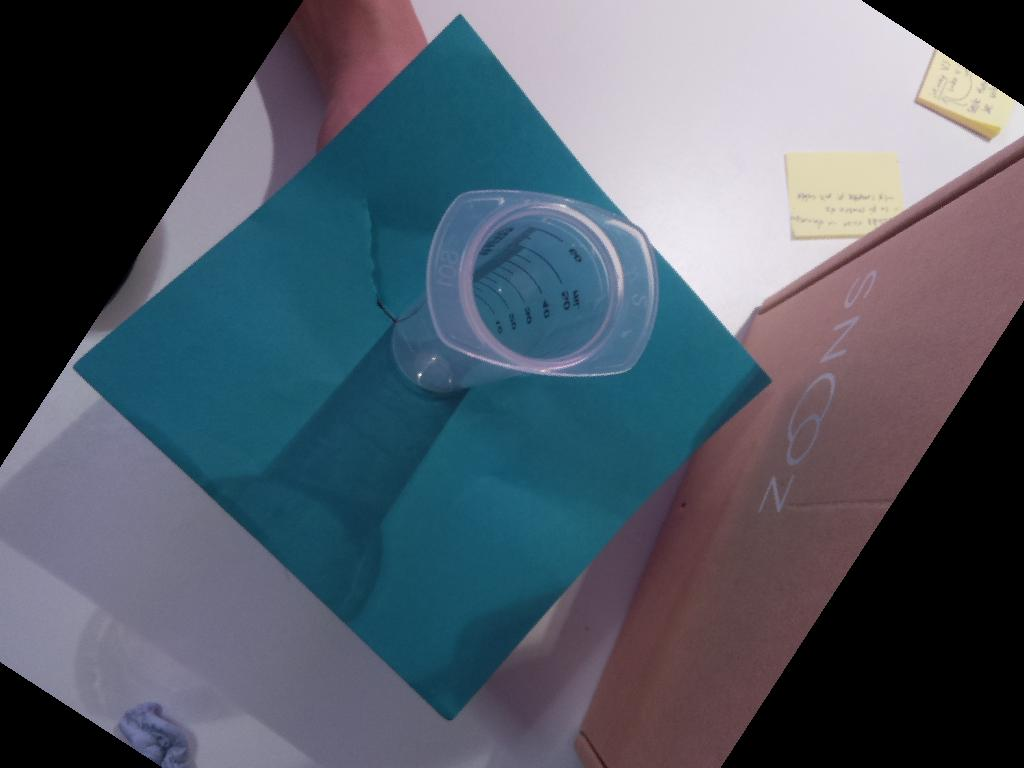clean: (425, 189, 661, 379)
